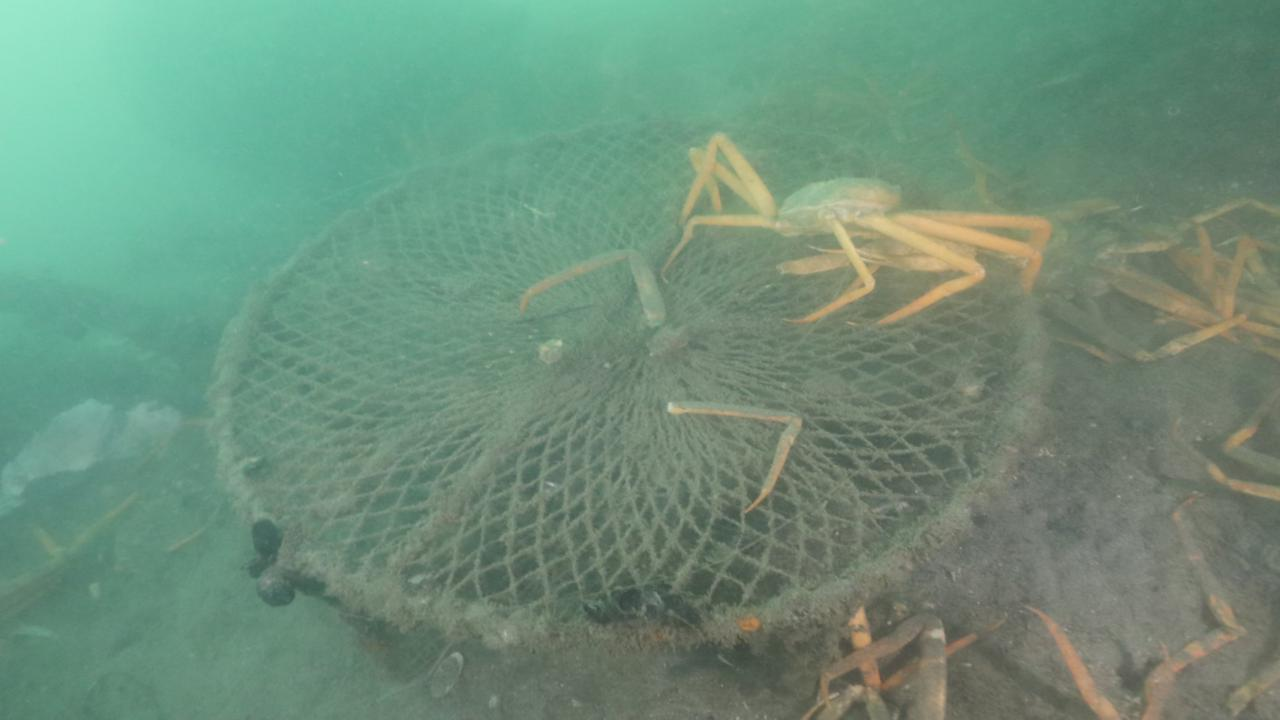circular fish trap: (207, 116, 1047, 662)
